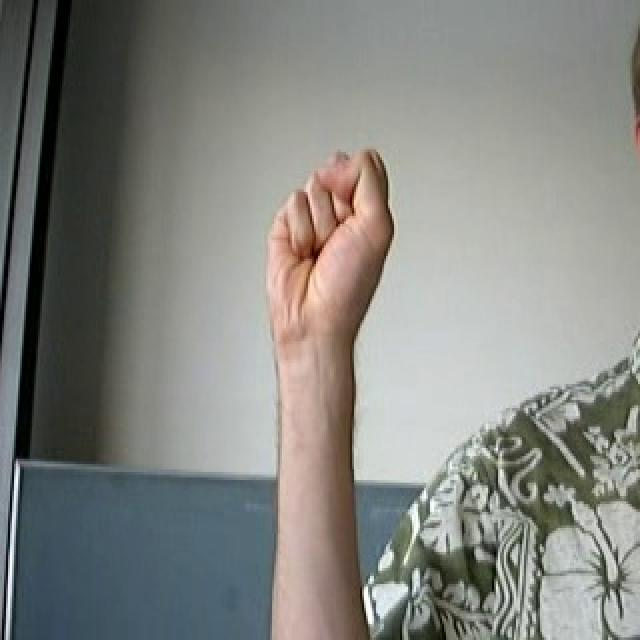S: (228, 126, 422, 378)
